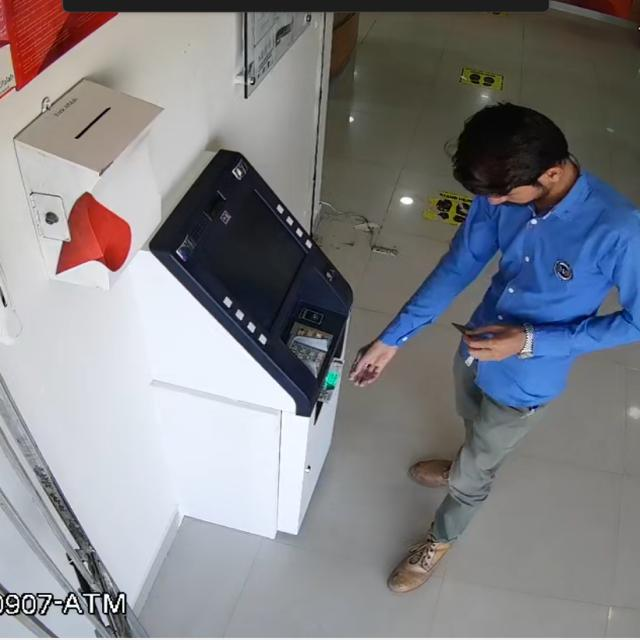note: (299, 340, 355, 418)
